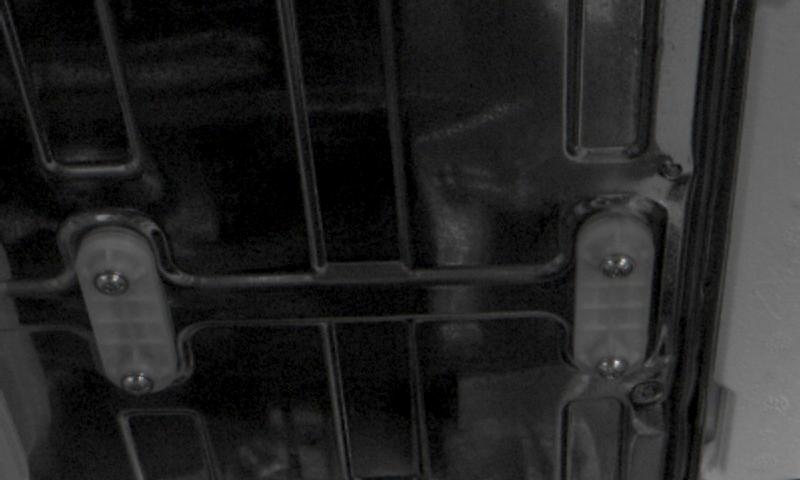vida-ok: (598, 242, 642, 287), (90, 261, 130, 306), (117, 362, 159, 402), (594, 347, 634, 385)
